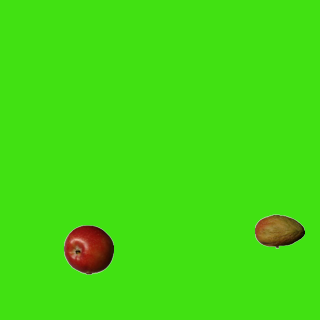Apple Braeburn: (63, 224, 113, 274)
Papaya: (254, 206, 304, 256)
